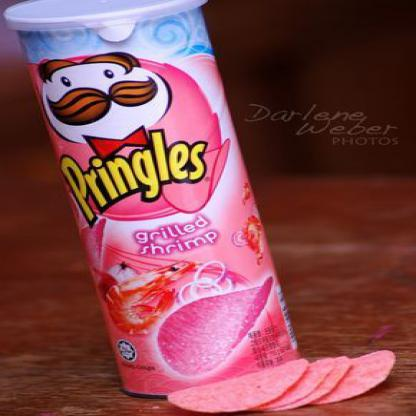potatochip: (0, 0, 321, 404)
